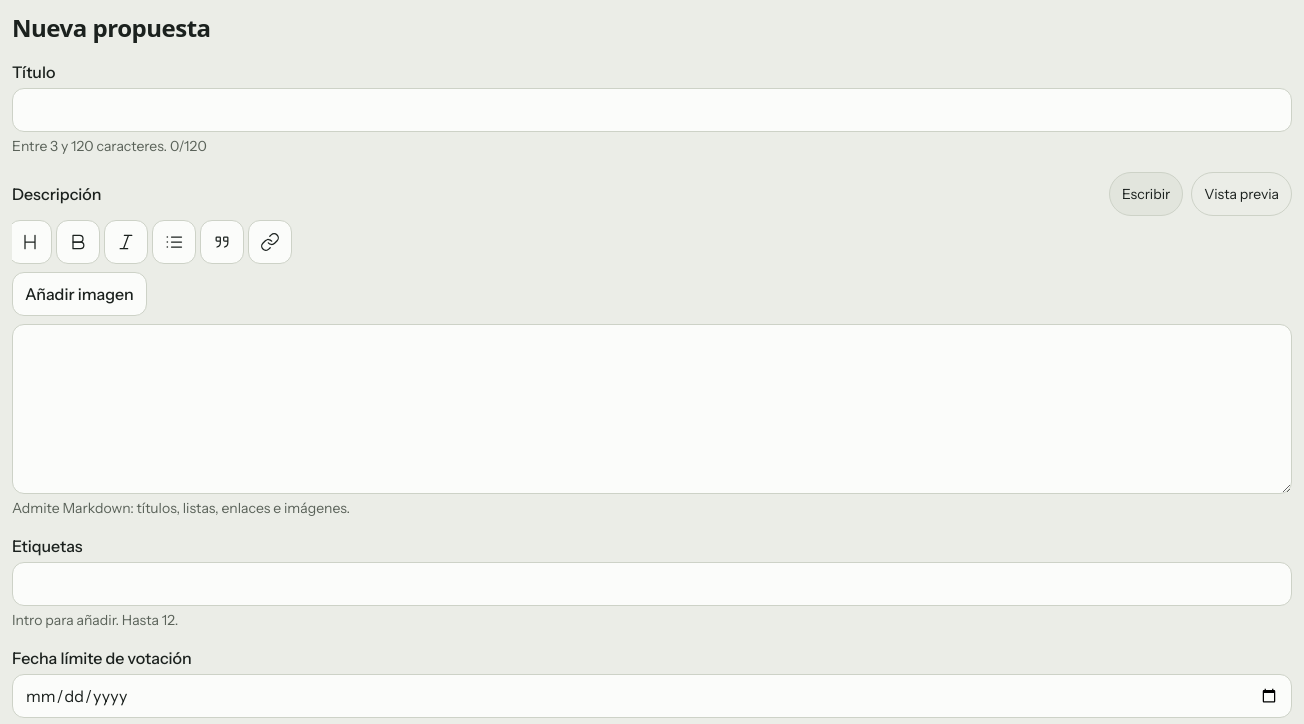
Scenario: ProposalForm › previews the description as sanitised html, script and all
The image size is (1304, 724).
Step 1. Type "## Plan <script>alert(1)</script>" into the text box labelled "Descripción" → (652, 409), box [12,324,1292,494]
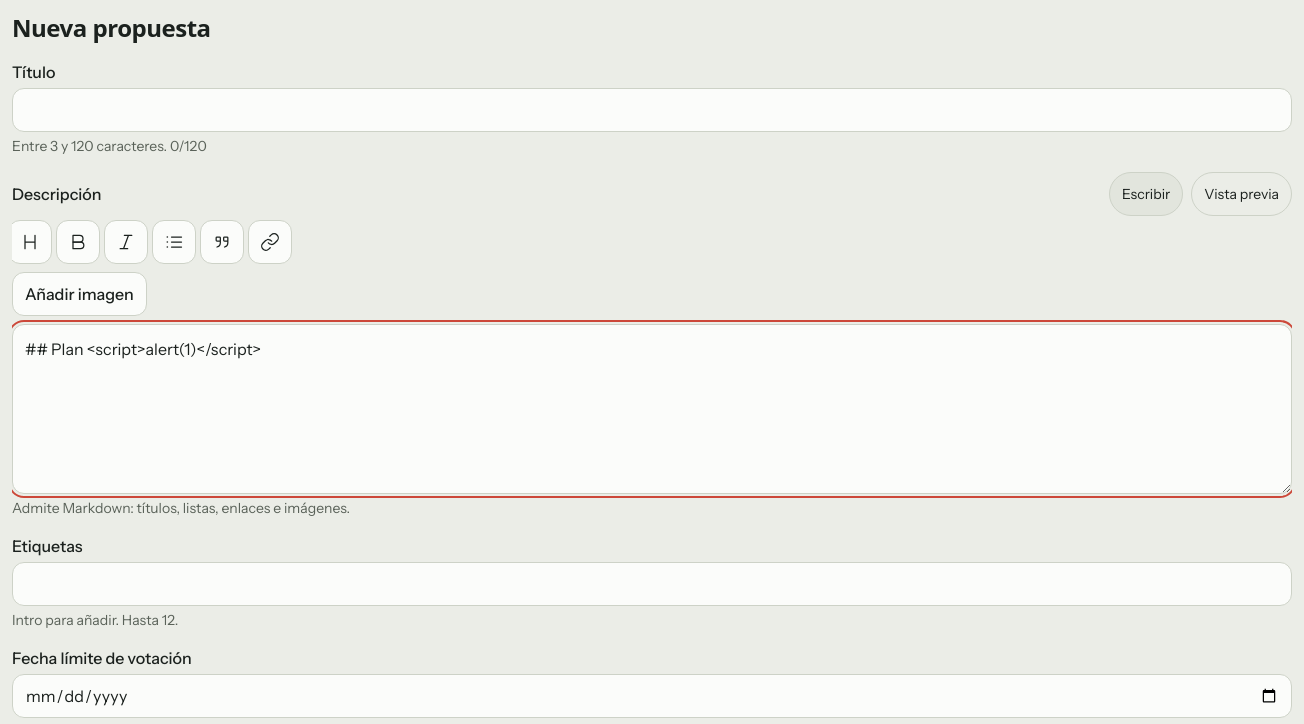
Step 2. Click the tab "Vista previa" → (1242, 194), box [1191,172,1292,216]
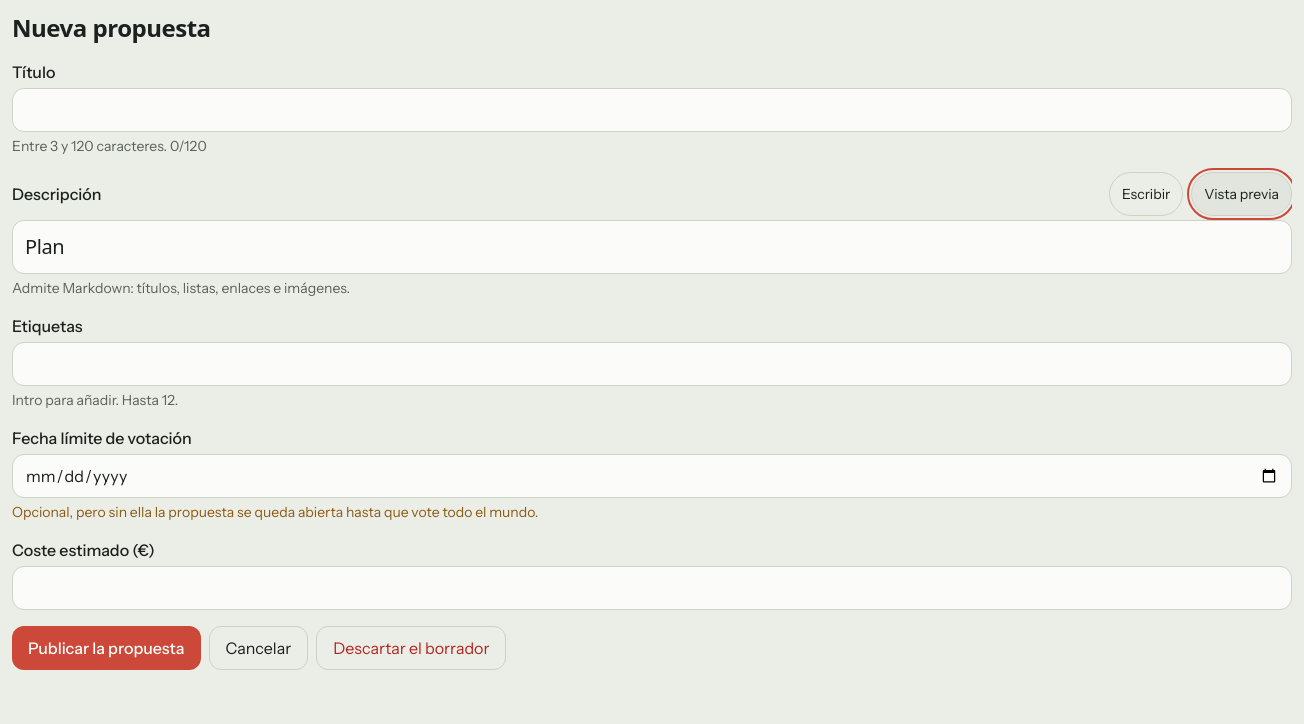
Check: the heading "Plan" is shown, box [25,233,64,260]
